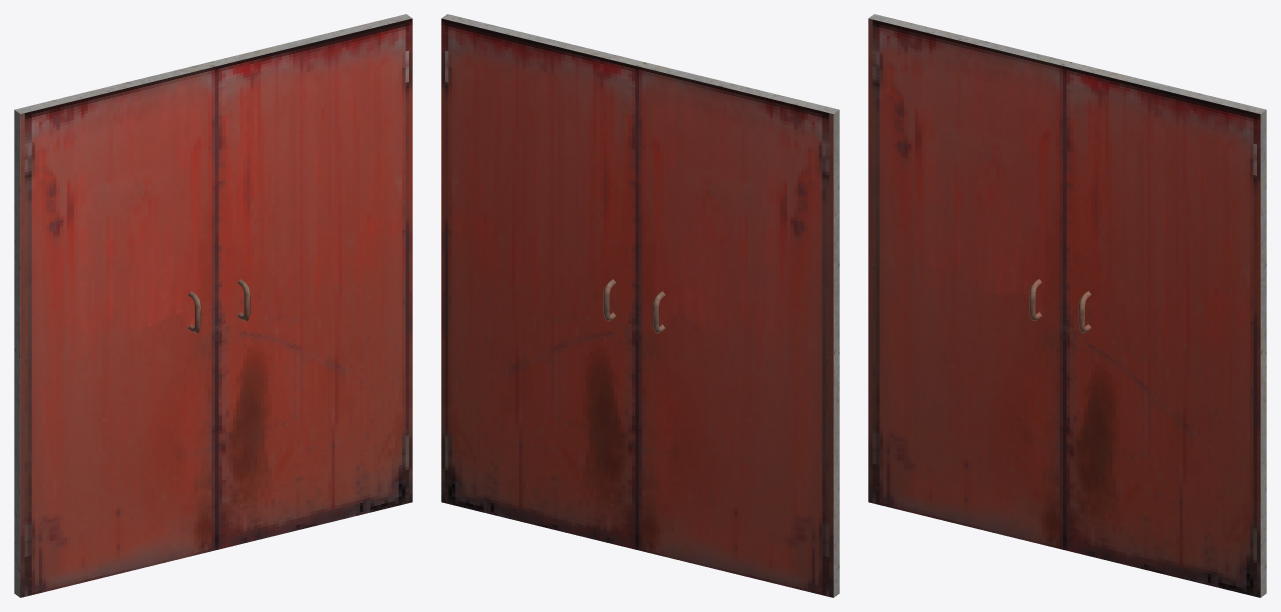
Rendered from _DoubleDoor_2.FBX.
The picture shows the model from 3 angles, left to right: view 1: azimuth 30°, elevation 25°; view 2: azimuth 150°, elevation 25°; view 3: azimuth 330°, elevation 25°; orthographic projection.
Parts seen in each view (by area): view 1: _DoubleDoor_Right, _DoubleDoor_Left; view 2: _DoubleDoor_Right, _DoubleDoor_Left; view 3: _DoubleDoor_Left, _DoubleDoor_Right.
Part boxes in pixels (x1,y1,x2,y2): _DoubleDoor_Right: (14,62,216,597); _DoubleDoor_Left: (211,14,412,549); _DoubleDoor_Right: (637,62,839,597); _DoubleDoor_Left: (441,14,642,549); _DoubleDoor_Left: (1064,62,1266,597); _DoubleDoor_Right: (868,14,1069,549).
Size of the model in its own units: 188 by 222 by 19.24.
Materials: 3 (3 with a texture image).
